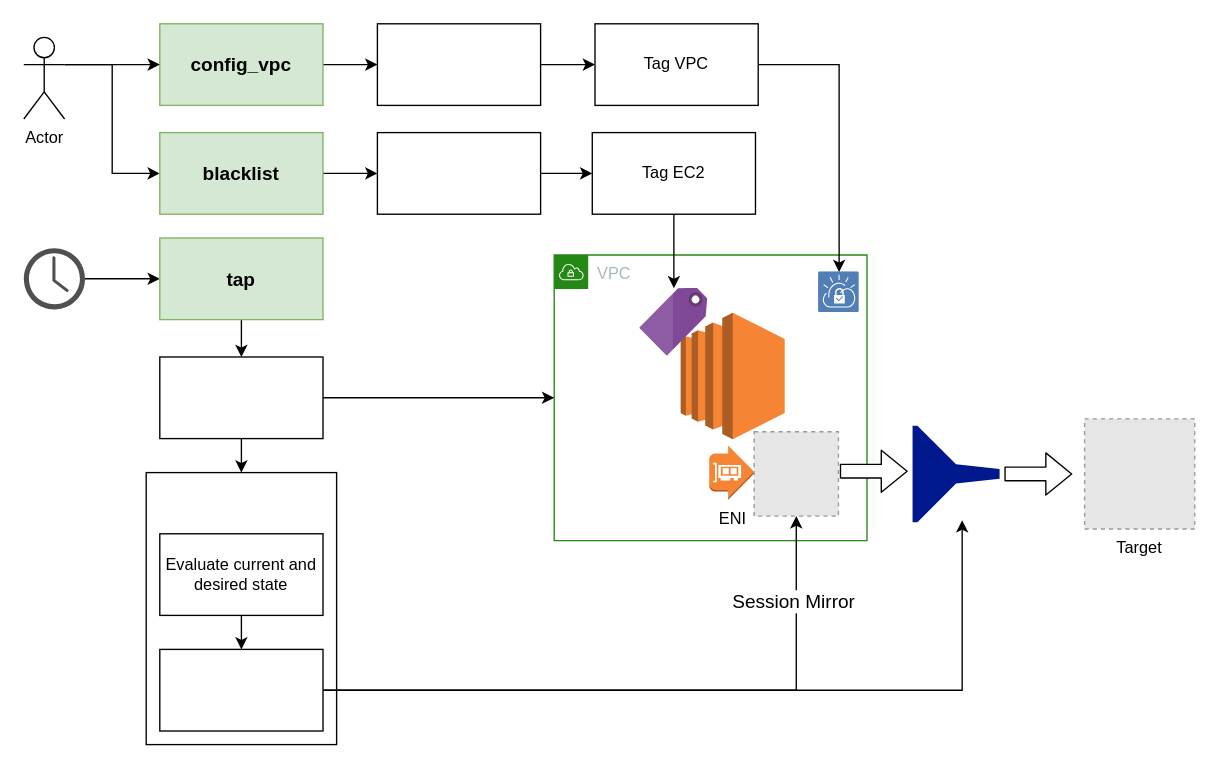
Image size: 1219x768. Some labels were removed from this diagram. Grey dashed boxes stand in for pictures. Here are the shapes that lost their labels. From the top down, the box of each, then its label:
(376, 22, 541, 105): Tap VPC?
(376, 131, 541, 214): Blacklist EC2?
(158, 356, 323, 439): Discover Nitro Instances
(145, 471, 337, 745): Nitro Instance
(158, 648, 323, 731): Apply Changes
